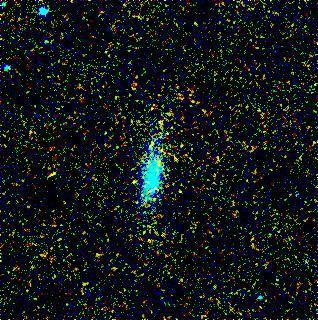star: (117, 167, 147, 197)
